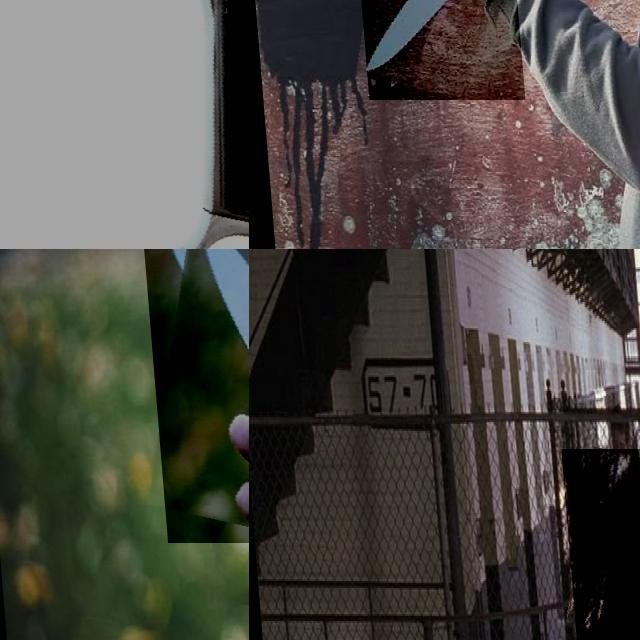-: (138, 249, 249, 543), (345, 0, 517, 125)
gun-knife-thesis - v11 Yolov5 augmented: (0, 0, 249, 249), (554, 449, 640, 640)
